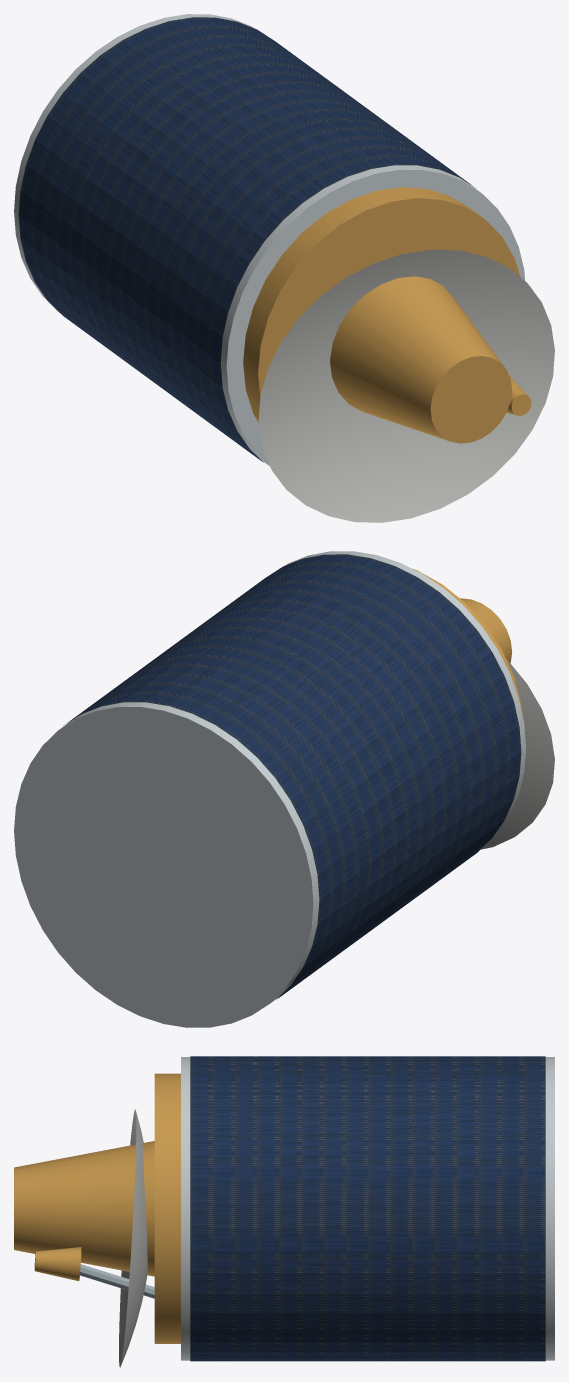
File: ref-cs-2-13782.glb
3 renders of one model, top to bottom at view 1: azimuth 30°, elevation 25°; view 2: azimuth 150°, elevation 25°; view 3: azimuth 270°, elevation 25°, orthographic. The views are drawn at different scales.
Visible parts, largest first — view 1: Body-mounted solar cells, Deck-mounted reflector, Axial antenna horn, Despun equipment deck, Solar drum core; view 2: Body-mounted solar cells, Solar drum core, Deck-mounted reflector, Axial antenna horn; view 3: Body-mounted solar cells, Axial antenna horn, Despun equipment deck, Solar drum core, Deck-mounted reflector, Feed horn, Offset feed boom.
Boxes of the visible parts, <box> form: Body-mounted solar cells: <box>18,17,474,462</box>; Deck-mounted reflector: <box>258,249,554,522</box>; Axial antenna horn: <box>330,276,511,443</box>; Despun equipment deck: <box>243,187,520,422</box>; Solar drum core: <box>14,14,524,466</box>; Body-mounted solar cells: <box>65,554,521,998</box>; Solar drum core: <box>14,551,525,1027</box>; Deck-mounted reflector: <box>481,659,554,849</box>; Axial antenna horn: <box>460,598,511,663</box>; Body-mounted solar cells: <box>190,1056,545,1361</box>; Axial antenna horn: <box>14,1141,154,1276</box>; Despun equipment deck: <box>154,1073,180,1343</box>; Solar drum core: <box>181,1057,554,1360</box>; Deck-mounted reflector: <box>119,1109,147,1367</box>; Feed horn: <box>34,1247,81,1281</box>; Offset feed boom: <box>80,1264,154,1298</box>.
Size of the model in its own units: 2.21 by 2.24 by 3.91.
Materials: 5 (1 with a texture image).
